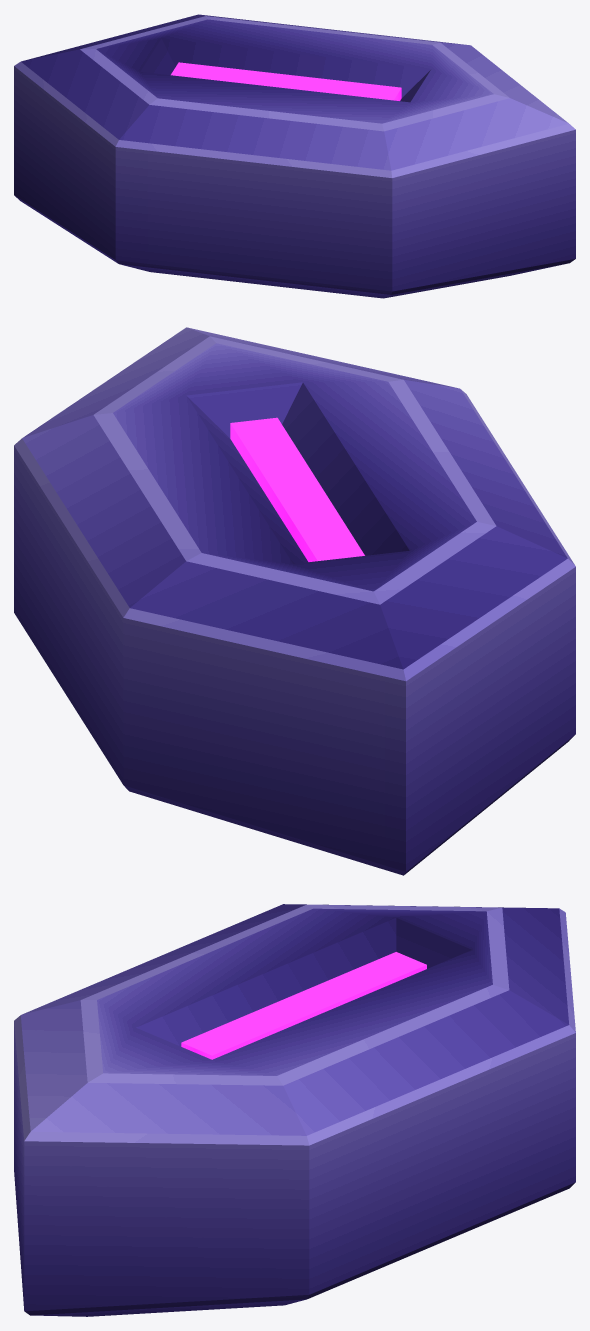
File: Thermal Haul_Item_Crystal1.glb
3 renders of one model, top to bottom at view 1: azimuth 30°, elevation 25°; view 2: azimuth 150°, elevation 25°; view 3: azimuth 270°, elevation 25°, orthographic. The views are drawn at different scales.
Visible parts, largest first — view 1: Cube.001; view 2: Cube.001; view 3: Cube.001.
Part boxes in pixels (x1,y1,x2,y2): Cube.001: (14, 14, 575, 298); Cube.001: (14, 327, 575, 875); Cube.001: (14, 904, 575, 1316).
Size of the model in its own units: 0.5901 by 0.2773 by 0.5901.
2 materials, 1 textured.
